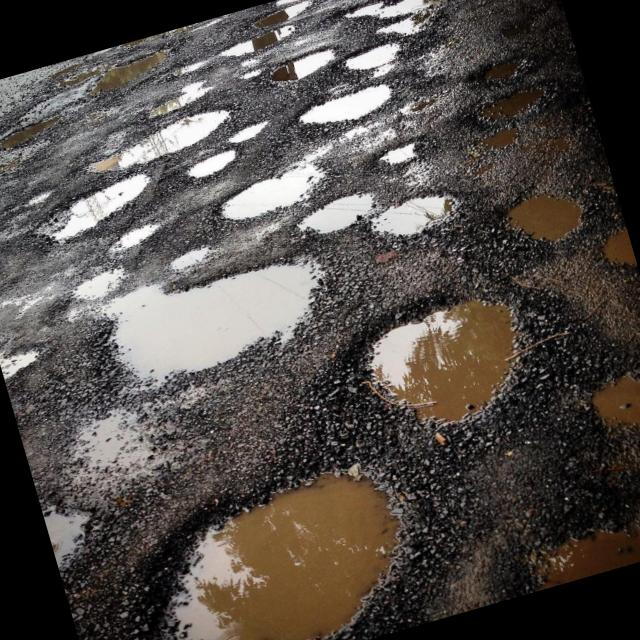Potholes: (67, 437, 455, 640), (54, 200, 352, 408), (350, 274, 566, 430), (437, 451, 640, 611), (76, 0, 313, 102), (295, 162, 487, 266), (201, 148, 369, 240), (79, 90, 245, 180), (155, 110, 298, 200), (25, 163, 171, 242), (492, 173, 602, 260), (285, 72, 411, 146), (563, 342, 640, 447), (257, 30, 372, 96), (38, 485, 114, 576), (333, 0, 453, 54), (582, 208, 640, 303), (265, 0, 393, 29), (336, 32, 406, 82), (0, 306, 42, 387), (367, 128, 438, 170)
